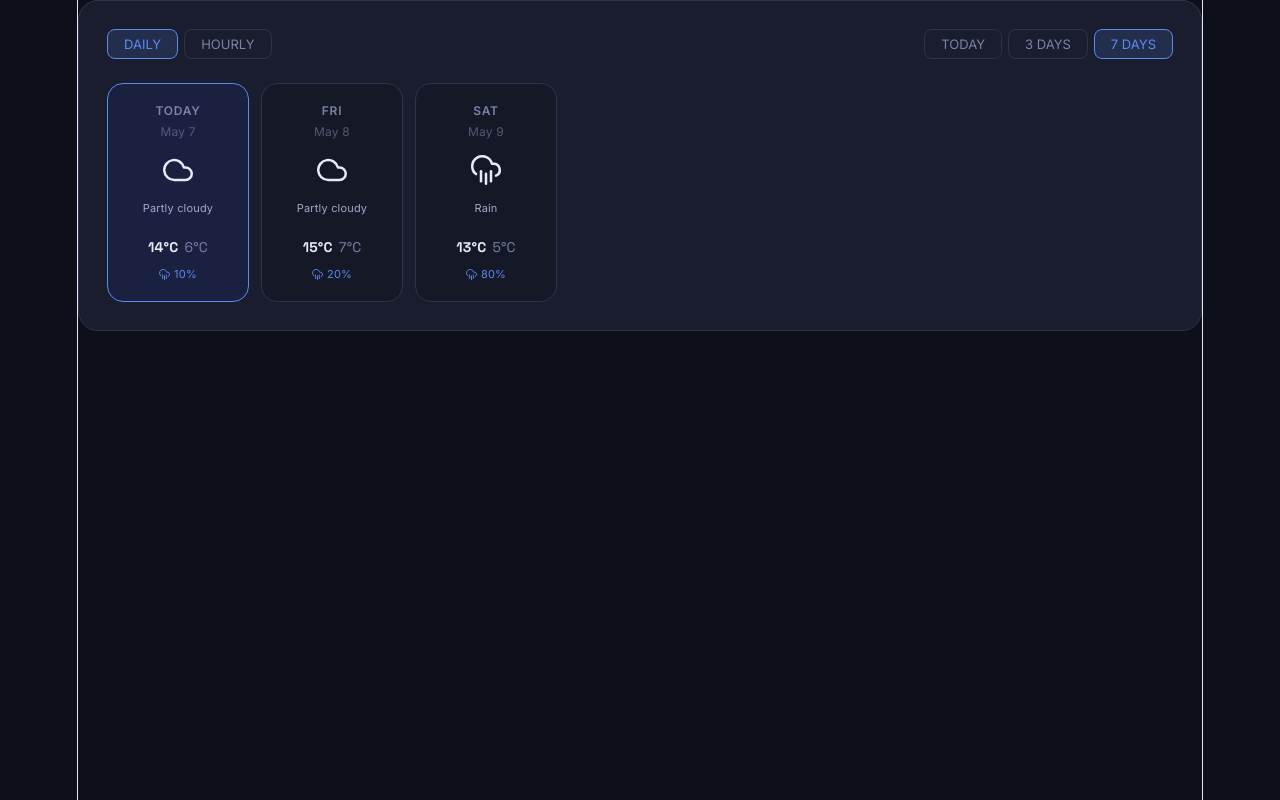
Test: ForecastPanel › switches back to daily view
The width and height of the screenshot is (1280, 800).
Step 1. Click the button "HOURLY" → click(228, 44), box [184,29,272,59]
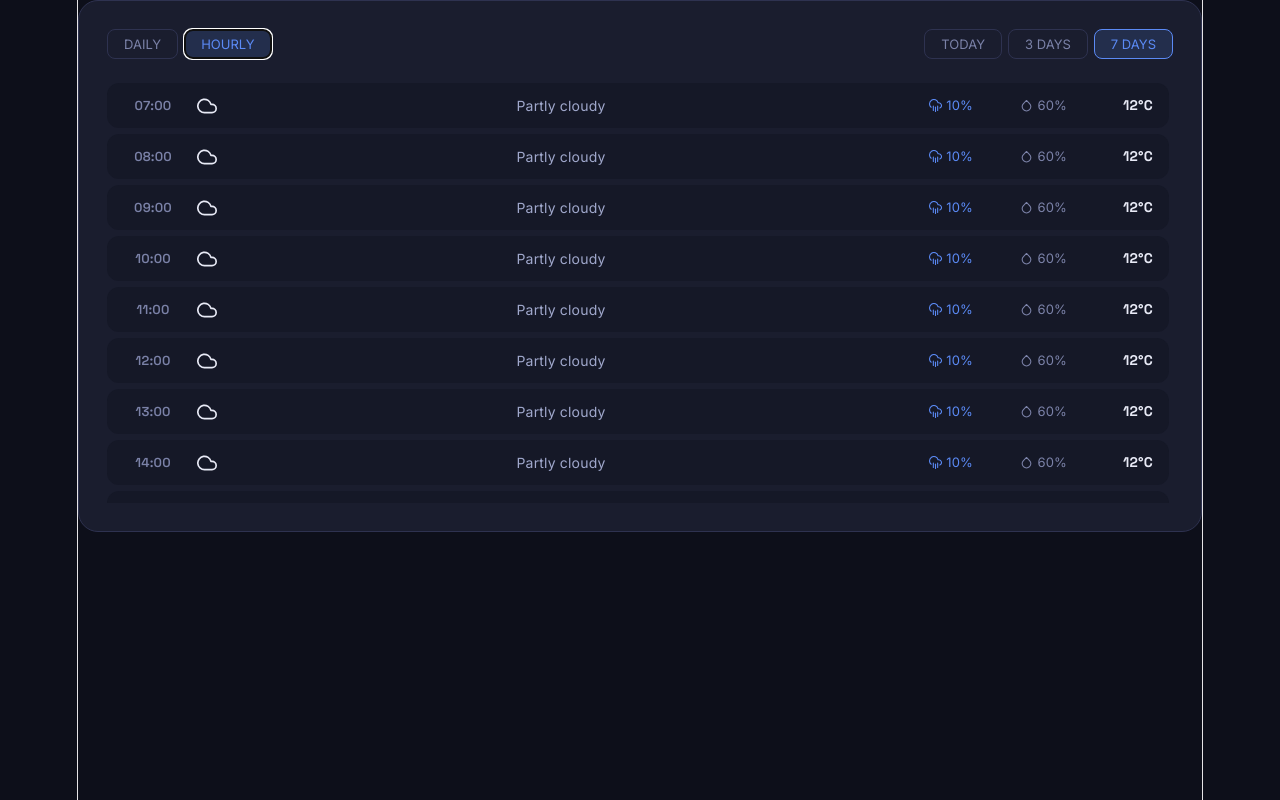
Step 2. Click the button "DAILY" → click(143, 44), box [107,29,178,59]
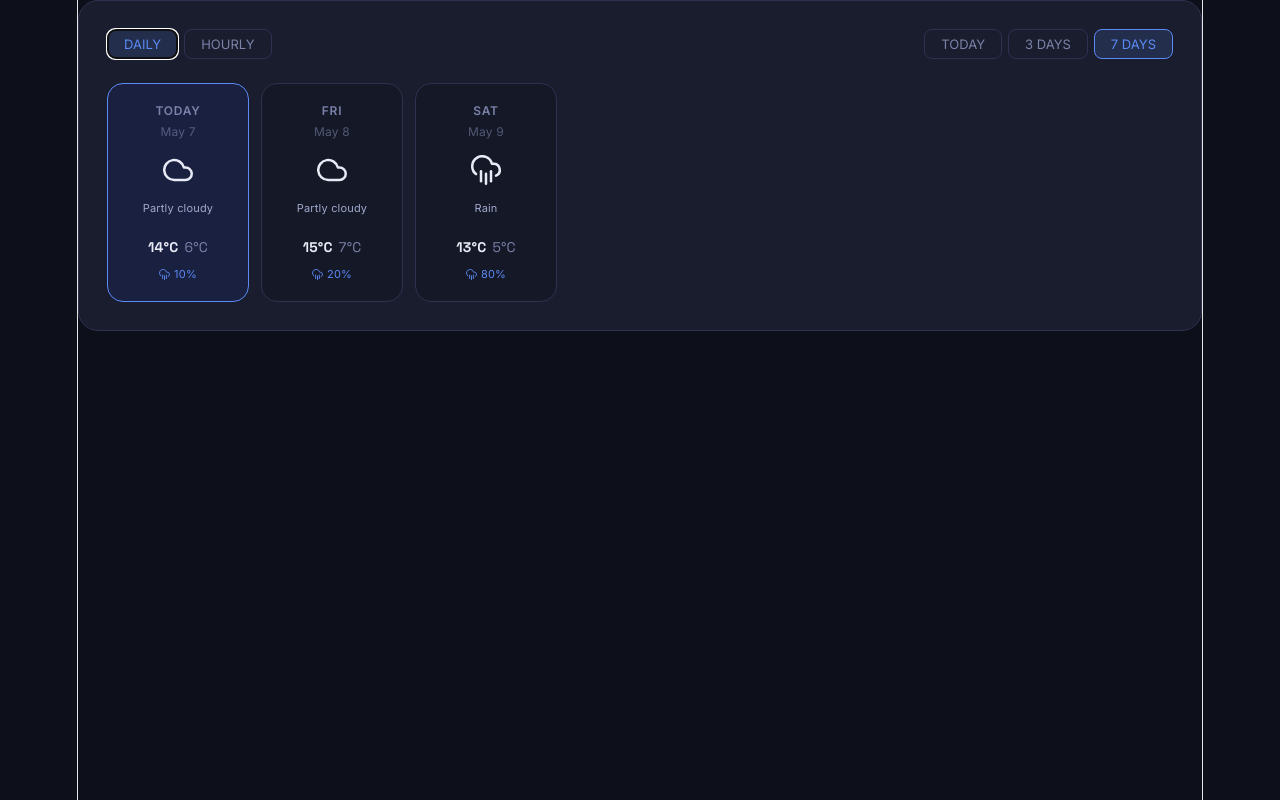
Check: the text "May 7" is shown, box [160,124,196,139]
